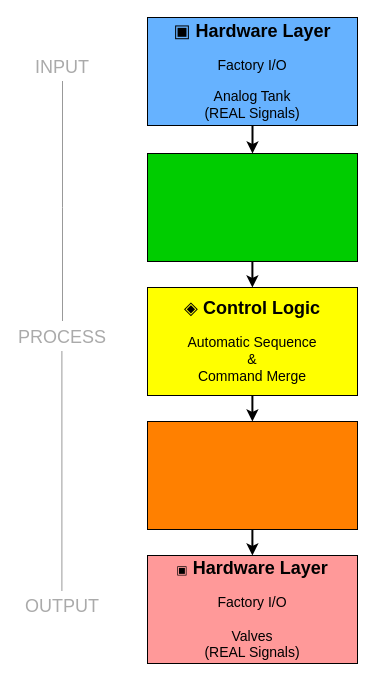
Some shapes in this 375 by 681 pixel diagram are drawn without their labels. Each missing label, with the box of its shape:
⇄ Output Conversion Digital → Analog (BOOL → REAL): (146, 420, 358, 530)
⚙ Signal Processing Level Threshold (REAL → BOOL): (146, 152, 358, 262)
